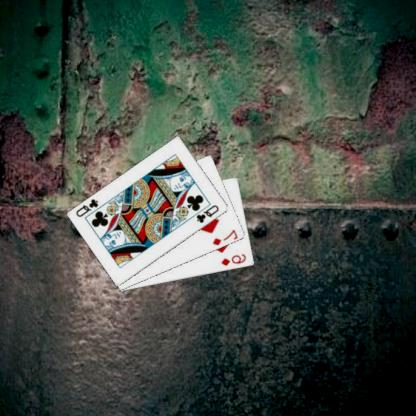6D: (220, 251, 249, 267)
7D: (211, 227, 240, 247)
QC: (195, 202, 222, 224), (75, 196, 102, 218)
